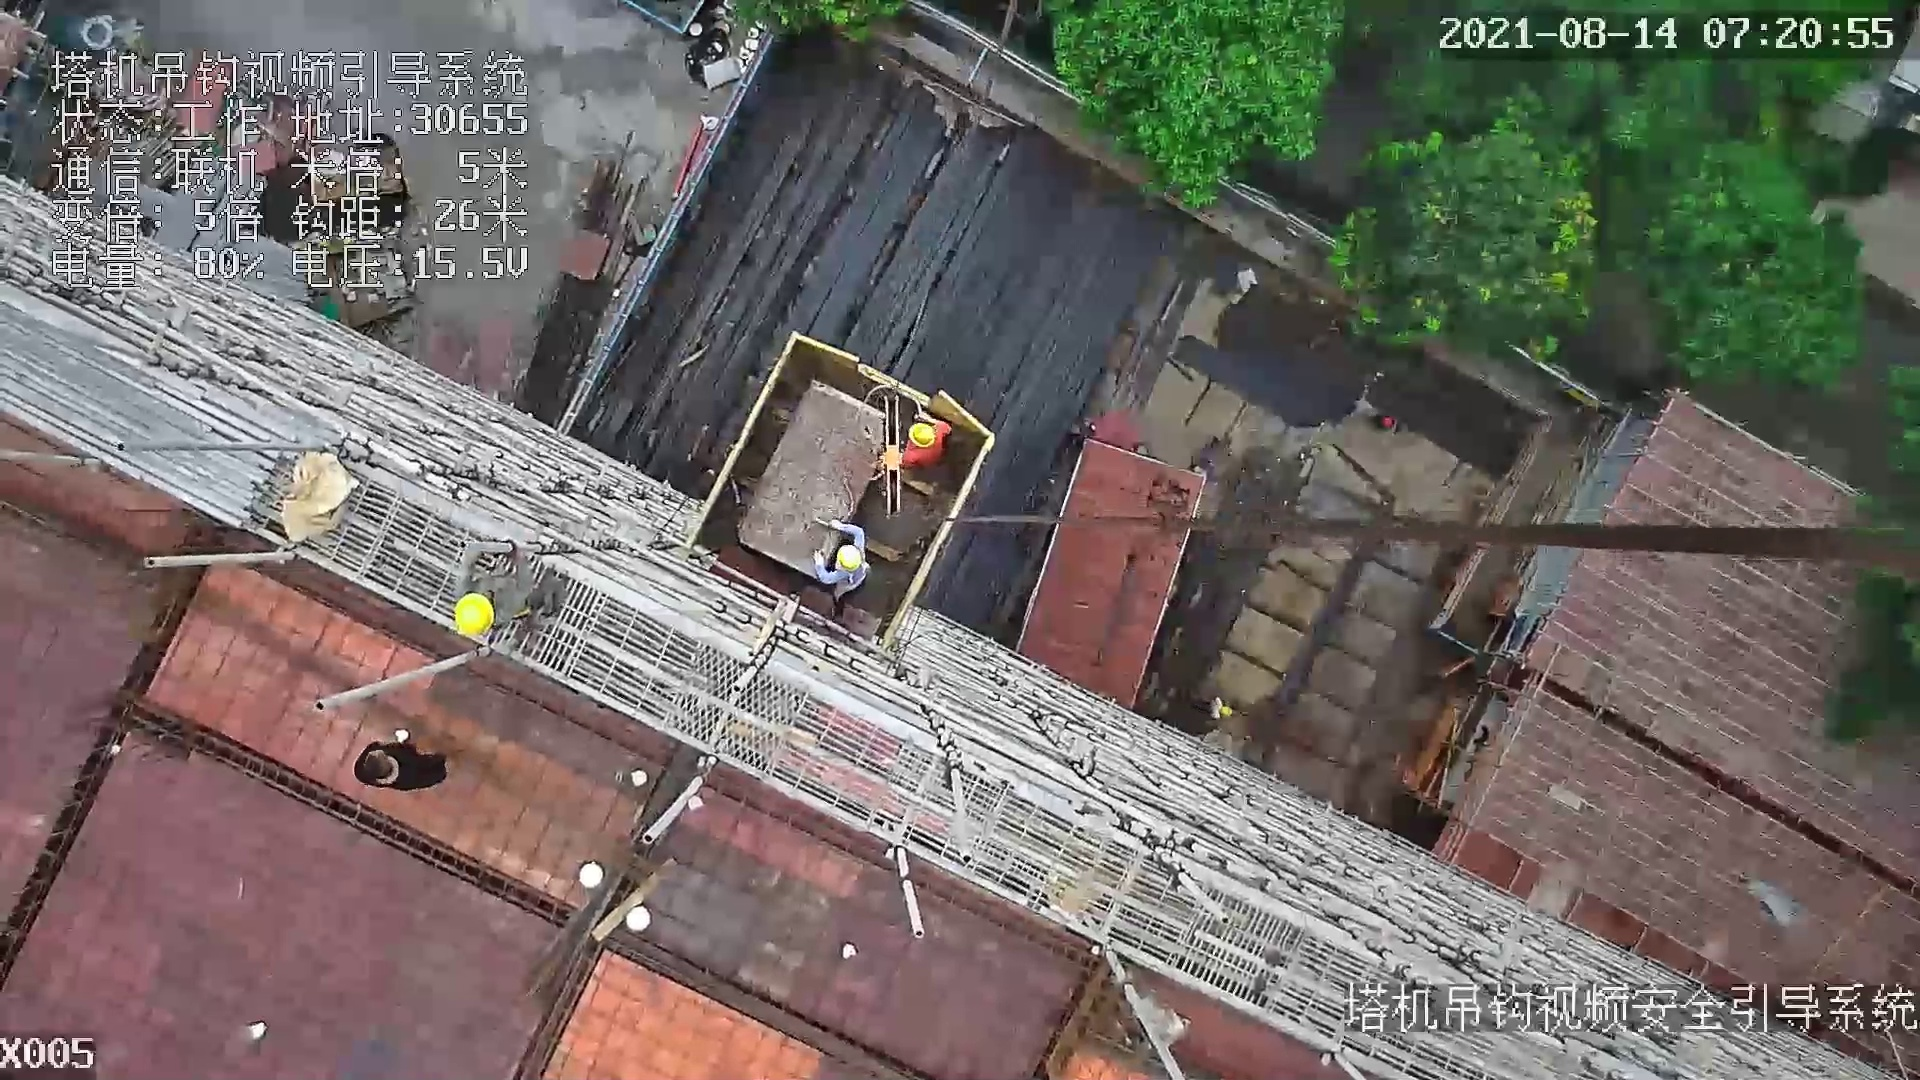helmet: (450, 587, 501, 640), (905, 420, 938, 454), (832, 542, 862, 575)
hook: (873, 389, 912, 519)
person: (439, 535, 568, 642), (322, 721, 455, 800), (813, 510, 878, 618), (887, 409, 950, 477)
